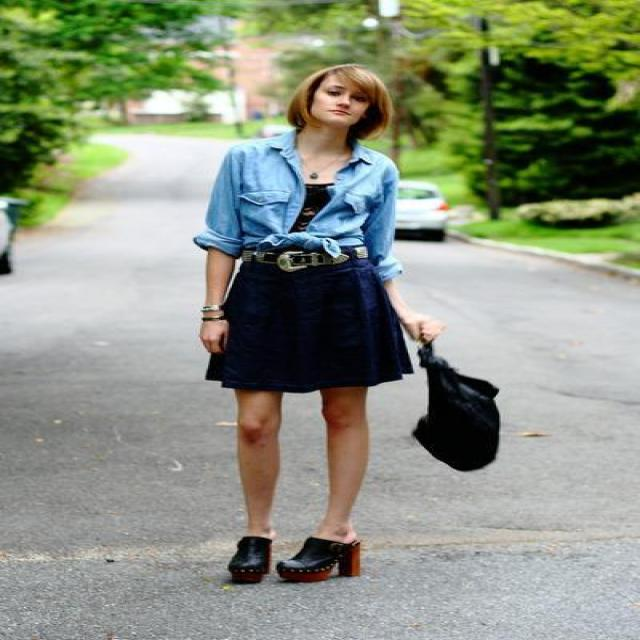bag: (413, 360, 499, 470)
shirt: (194, 124, 402, 257)
shoe: (226, 536, 364, 584)
skirt: (203, 271, 413, 392)
